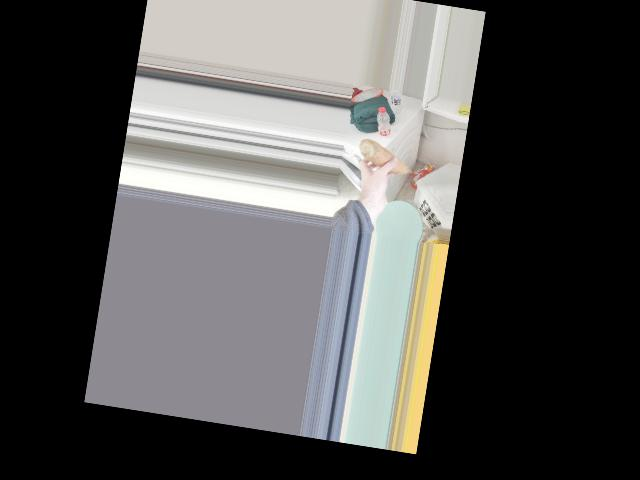sweet_potato: (358, 136, 411, 180)
